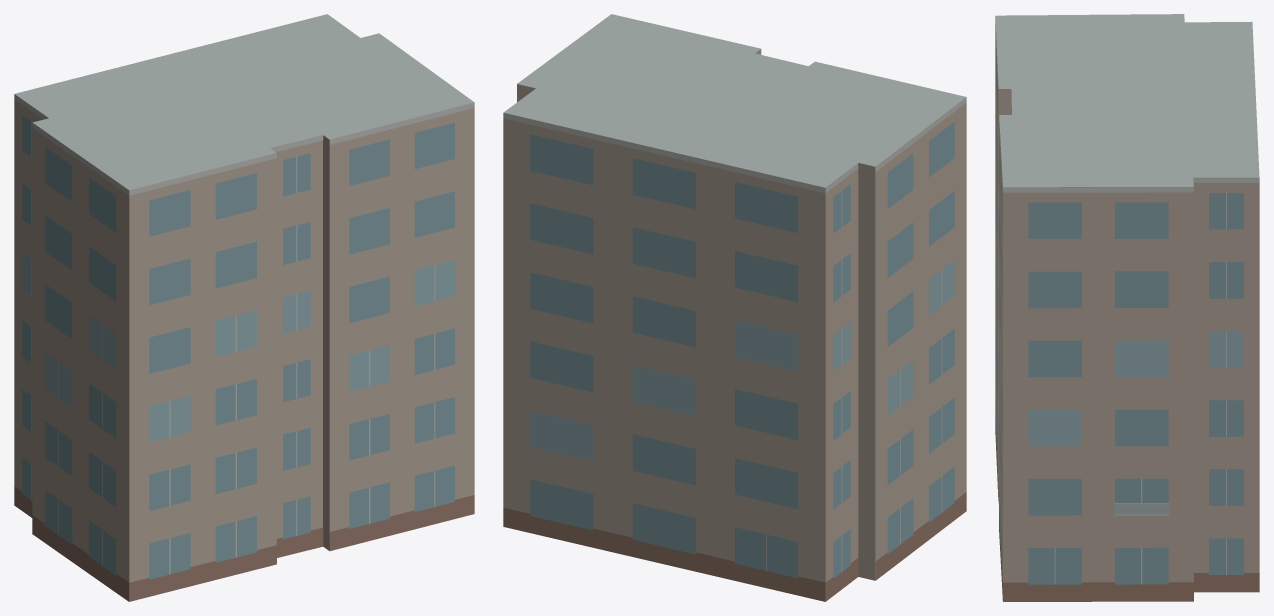
Rendered from survey-upis-32899225.glb.
3 renders of one model, left to right at view 1: azimuth 30°, elevation 25°; view 2: azimuth 150°, elevation 25°; view 3: azimuth 270°, elevation 25°, orthographic.
Visible parts, largest first — view 1: survey-upis-32899225.tmp; view 2: survey-upis-32899225.tmp; view 3: survey-upis-32899225.tmp.
Part boxes in pixels (x1,y1,x2,y2): survey-upis-32899225.tmp: (14,14,474,601); survey-upis-32899225.tmp: (503,14,966,601); survey-upis-32899225.tmp: (995,14,1259,601).
Size of the model in its own units: 16.42 by 18.3 by 10.58.
